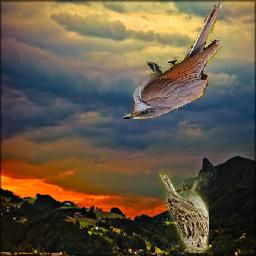Cuckoo: (122, 3, 222, 120)
Sparrow: (159, 173, 210, 254)
